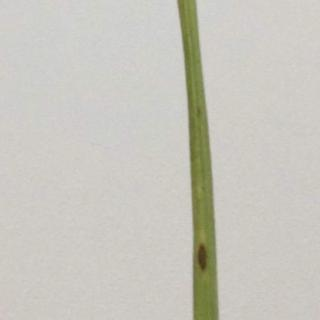Blast: (188, 221, 223, 294)
